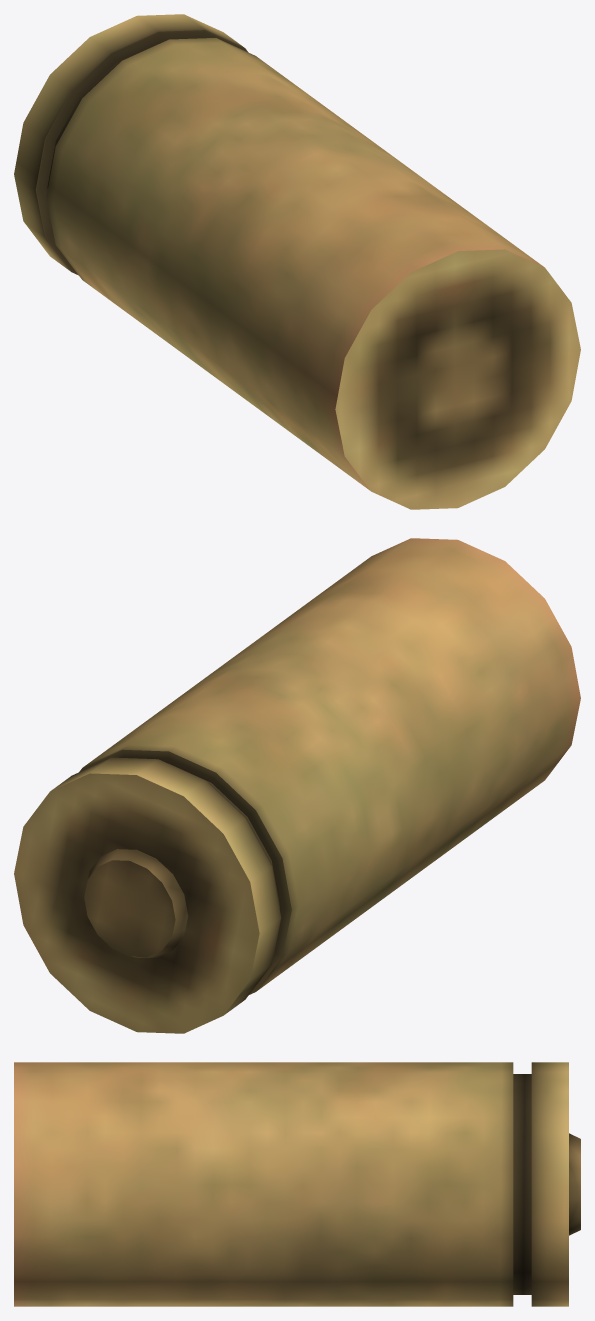
File: smg45shell.fbx
The picture shows the model from 3 angles, top to bottom: view 1: azimuth 30°, elevation 25°; view 2: azimuth 150°, elevation 25°; view 3: azimuth 270°, elevation 25°; orthographic projection. The views are drawn at different scales.
Visible parts, largest first — view 1: bullet; view 2: bullet; view 3: bullet.
Part boxes in pixels (x1=…): bullet: x1=14, y1=14, x2=580, y2=509; bullet: x1=14, y1=538, x2=580, y2=1033; bullet: x1=14, y1=1062, x2=580, y2=1306.
Size of the model in its own units: 1.14 by 1.14 by 2.63.
